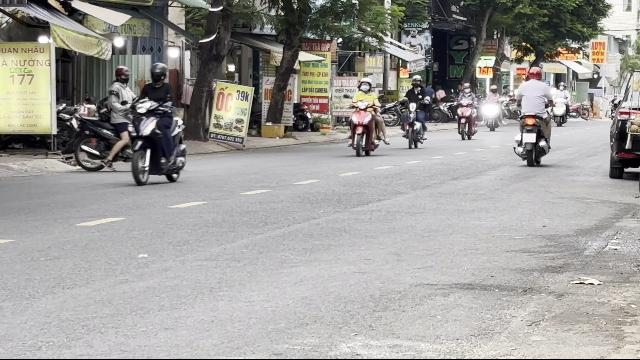helmet: (148, 62, 168, 82), (114, 64, 130, 84), (526, 66, 542, 80), (358, 76, 370, 92)
licenseplate: (522, 133, 536, 143)
motorcyclist: (126, 61, 190, 185), (512, 66, 554, 166), (344, 77, 388, 157)
